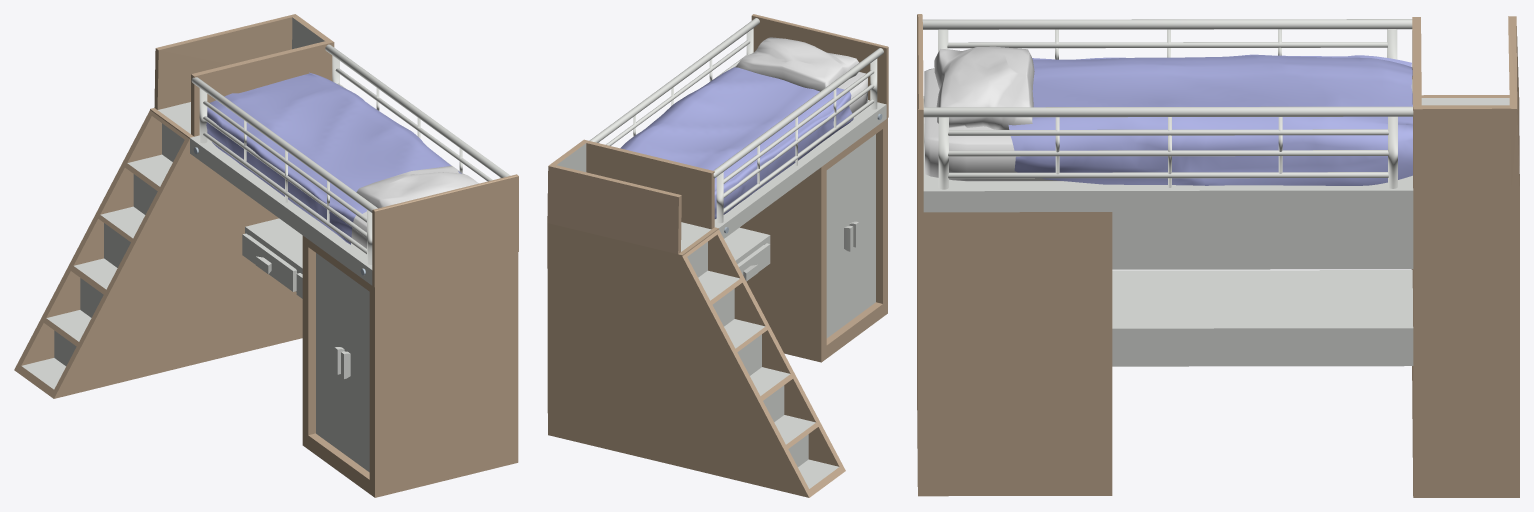
Rendered from bed.fbx.
3 views of the same model, side by side, from view 1: azimuth 30°, elevation 25°; view 2: azimuth 150°, elevation 25°; view 3: azimuth 270°, elevation 25° (orthographic). The views are drawn at different scales.
Visible parts, largest first — view 1: Matress; view 2: Matress; view 3: Matress.
Part boxes in pixels (x1,y1,x2,y2): Matress: [14, 14, 518, 497]; Matress: [547, 14, 888, 497]; Matress: [917, 14, 1519, 497].
Size of the model in its own units: 927 by 907 by 1271.
